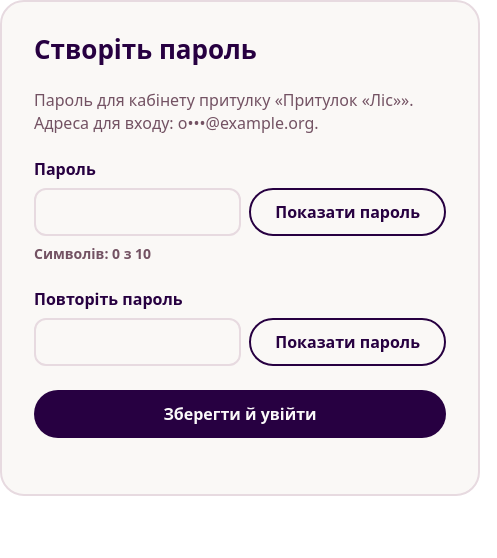
Test: «Створіть пароль» › no answer at all: «Не вдалося звʼязатися із сайтом…» (G4, audit 2026-10-22)
Type "ялинка-під-вікном" into the password field labelled "Пароль" at (138,212), box x1=34 y1=188 x2=241 y2=236
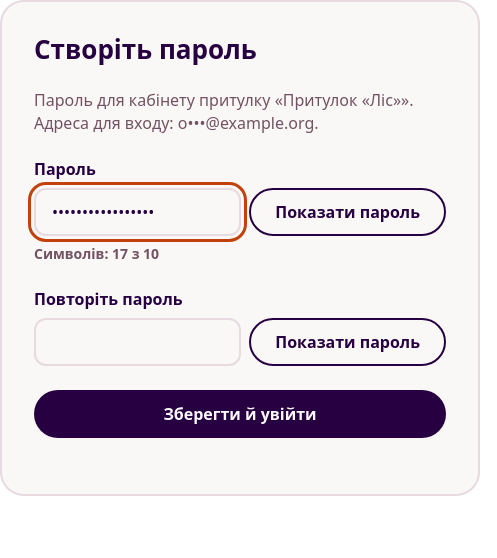
Type "ялинка-під-вікном" into the password field labelled "Повторіть пароль" at (138,342), box x1=34 y1=318 x2=241 y2=366
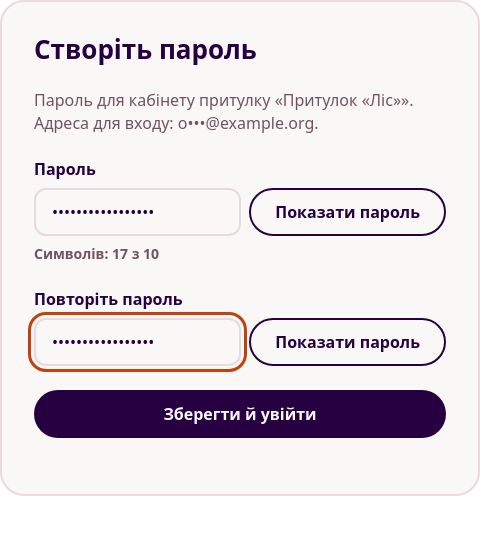
Click the button "Зберегти й увійти" at (240,414), box x1=34 y1=390 x2=446 y2=438
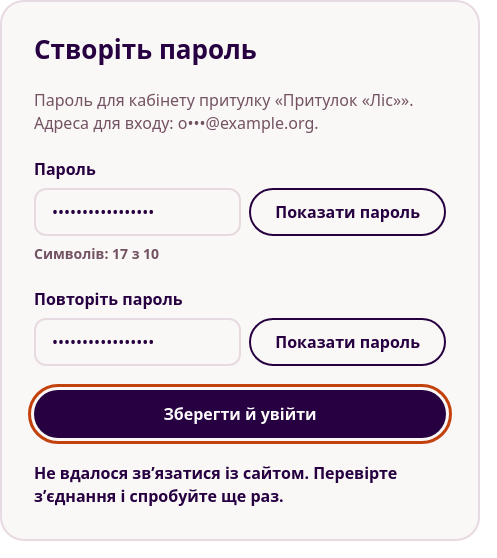
Expected: the message reads "Не вдалося звʼязатися із сайтом. Перевірте зʼєднання і спробуйте ще раз.", x1=34 y1=462 x2=397 y2=507
